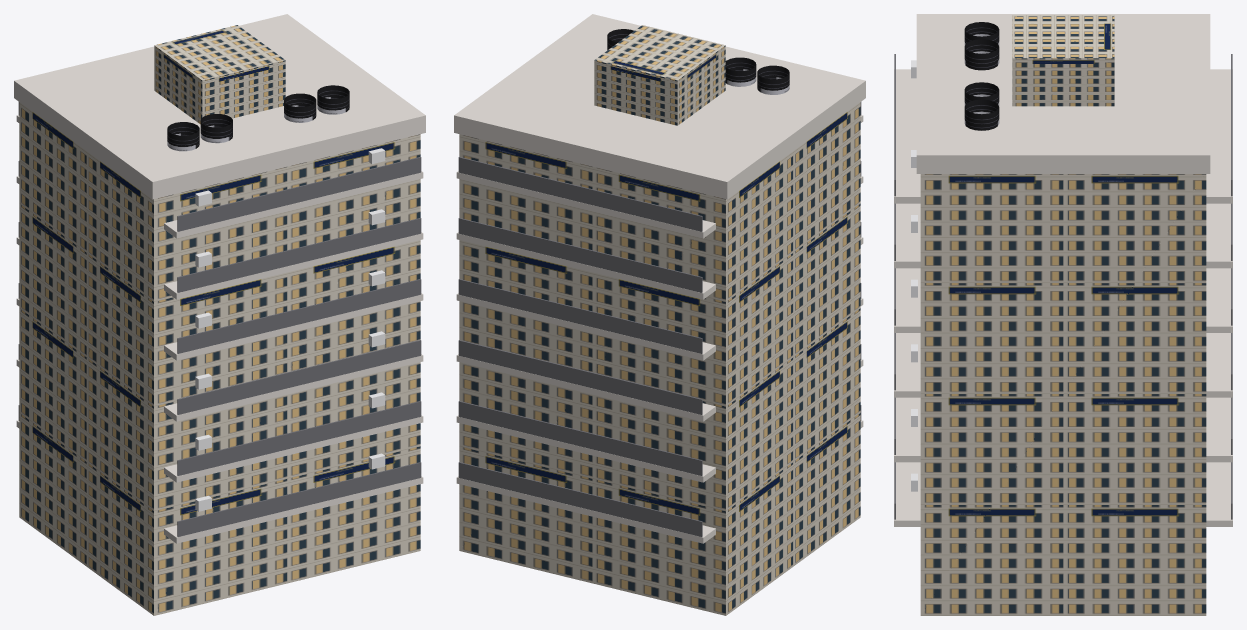
Rendered from residential_building_realistic.glb.
3 views of the same model, side by side, from view 1: azimuth 30°, elevation 25°; view 2: azimuth 150°, elevation 25°; view 3: azimuth 270°, elevation 25° (orthographic). The views are drawn at different scales.
Parts seen in each view (by area): view 1: Res_Core, Res_Parapet, Res_Railings, Res_Balconies, Res_Lift_Room, Res_Water_Tanks, Res_AC_Units; view 2: Res_Core, Res_Parapet, Res_Railings, Res_Balconies, Res_Lift_Room, Res_Water_Tanks; view 3: Res_Core, Res_Parapet, Res_Balconies, Res_Lift_Room, Res_Water_Tanks, Res_Railings, Res_AC_Units.
Part boxes in pixels (bbox=[...]): Res_Core: bbox=[19, 102, 420, 615]; Res_Parapet: bbox=[14, 14, 425, 199]; Res_Railings: bbox=[18, 102, 421, 536]; Res_Balconies: bbox=[16, 115, 423, 543]; Res_Lift_Room: bbox=[154, 25, 285, 124]; Res_Water_Tanks: bbox=[167, 85, 349, 151]; Res_AC_Units: bbox=[195, 148, 385, 511]; Res_Core: bbox=[459, 102, 860, 615]; Res_Parapet: bbox=[454, 14, 865, 199]; Res_Railings: bbox=[458, 102, 861, 536]; Res_Balconies: bbox=[456, 115, 863, 543]; Res_Lift_Room: bbox=[594, 25, 725, 125]; Res_Water_Tanks: bbox=[607, 29, 789, 94]; Res_Core: bbox=[920, 174, 1206, 615]; Res_Parapet: bbox=[916, 14, 1210, 173]; Res_Balconies: bbox=[894, 69, 1232, 526]; Res_Lift_Room: bbox=[1012, 15, 1114, 106]; Res_Water_Tanks: bbox=[964, 22, 999, 130]; Res_Railings: bbox=[894, 54, 1232, 519]; Res_AC_Units: bbox=[911, 60, 917, 491].
Size of the model in its own units: 16.4 by 27.6 by 16.6.
Materials: 5 (2 with a texture image).
